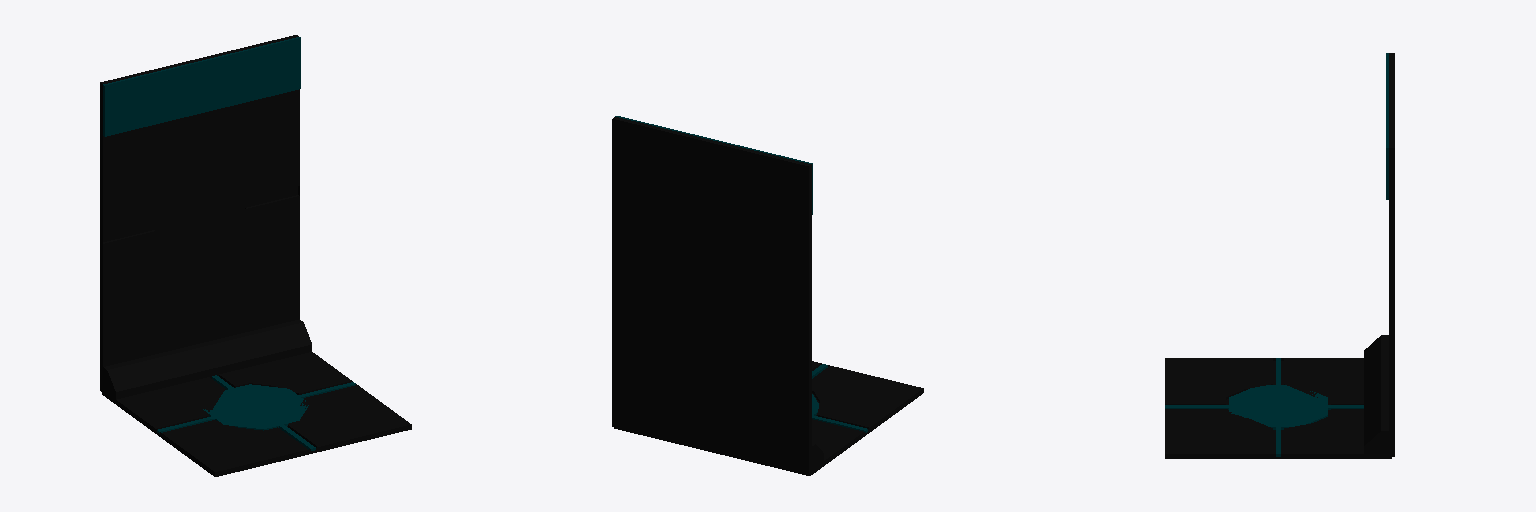
Rendered from SciFiWall1.obj.
The picture shows the model from 3 angles: view 1: azimuth 30°, elevation 25°; view 2: azimuth 150°, elevation 25°; view 3: azimuth 270°, elevation 25°; orthographic projection.
Visible parts, largest first — view 1: Wall, Cube, Wall_Panel, Triangle_Connecter, Floor_Oct; view 2: Wall, Cube; view 3: Cube, Floor_Oct, Triangle_Connecter, Wall.
Boxes of the visible parts, x1=… form: Wall: x1=100, y1=35, x2=299, y2=391; Cube: x1=102, y1=352, x2=411, y2=476; Wall_Panel: x1=103, y1=37, x2=300, y2=136; Triangle_Connecter: x1=102, y1=319, x2=311, y2=401; Floor_Oct: x1=203, y1=384, x2=308, y2=430; Wall: x1=612, y1=117, x2=811, y2=474; Cube: x1=614, y1=361, x2=923, y2=475; Cube: x1=1165, y1=358, x2=1391, y2=458; Floor_Oct: x1=1229, y1=385, x2=1327, y2=429; Triangle_Connecter: x1=1364, y1=335, x2=1391, y2=456; Wall: x1=1389, y1=53, x2=1394, y2=456.
Bounding box in the file's own units: 4 × 6.05 × 4.05.